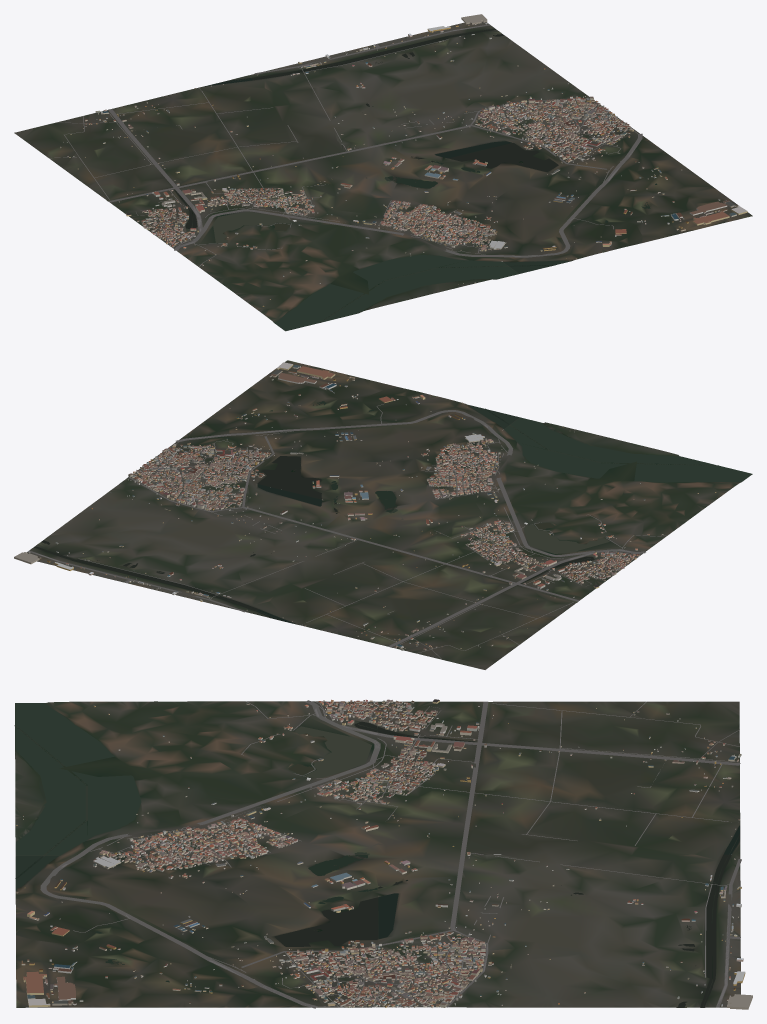
3 views of the same model, one above another, from view 1: azimuth 30°, elevation 25°; view 2: azimuth 150°, elevation 25°; view 3: azimuth 270°, elevation 25° (orthographic). The views are drawn at different scales.
Visible parts, largest first — view 1: ground, buildings, water, roads; view 2: ground, buildings, water, roads; view 3: ground, buildings, water, roads.
Part boxes in pixels (x1,y1,x2,y2): ground: (14, 21, 752, 331); buildings: (60, 14, 747, 306); water: (174, 28, 657, 330); roads: (49, 24, 642, 266); ground: (27, 360, 752, 669); buildings: (14, 362, 716, 650); water: (34, 401, 751, 624); roads: (28, 404, 666, 659); ground: (15, 701, 740, 1007); buildings: (16, 699, 752, 1009); water: (14, 703, 739, 1007); roads: (40, 700, 741, 1008).
Size of the model in its own units: 2826 by 26.17 by 2859.
